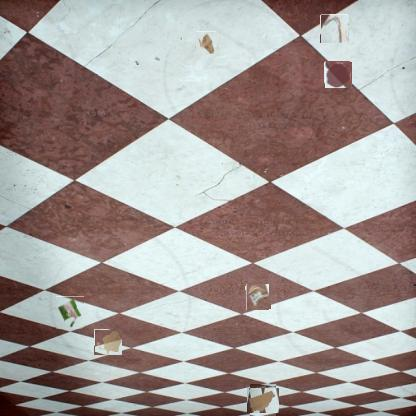dirty: (56, 296, 84, 329), (248, 386, 278, 414), (320, 15, 349, 43), (246, 285, 270, 310), (196, 32, 217, 53)
liquid: (94, 329, 122, 355), (325, 61, 351, 88)
